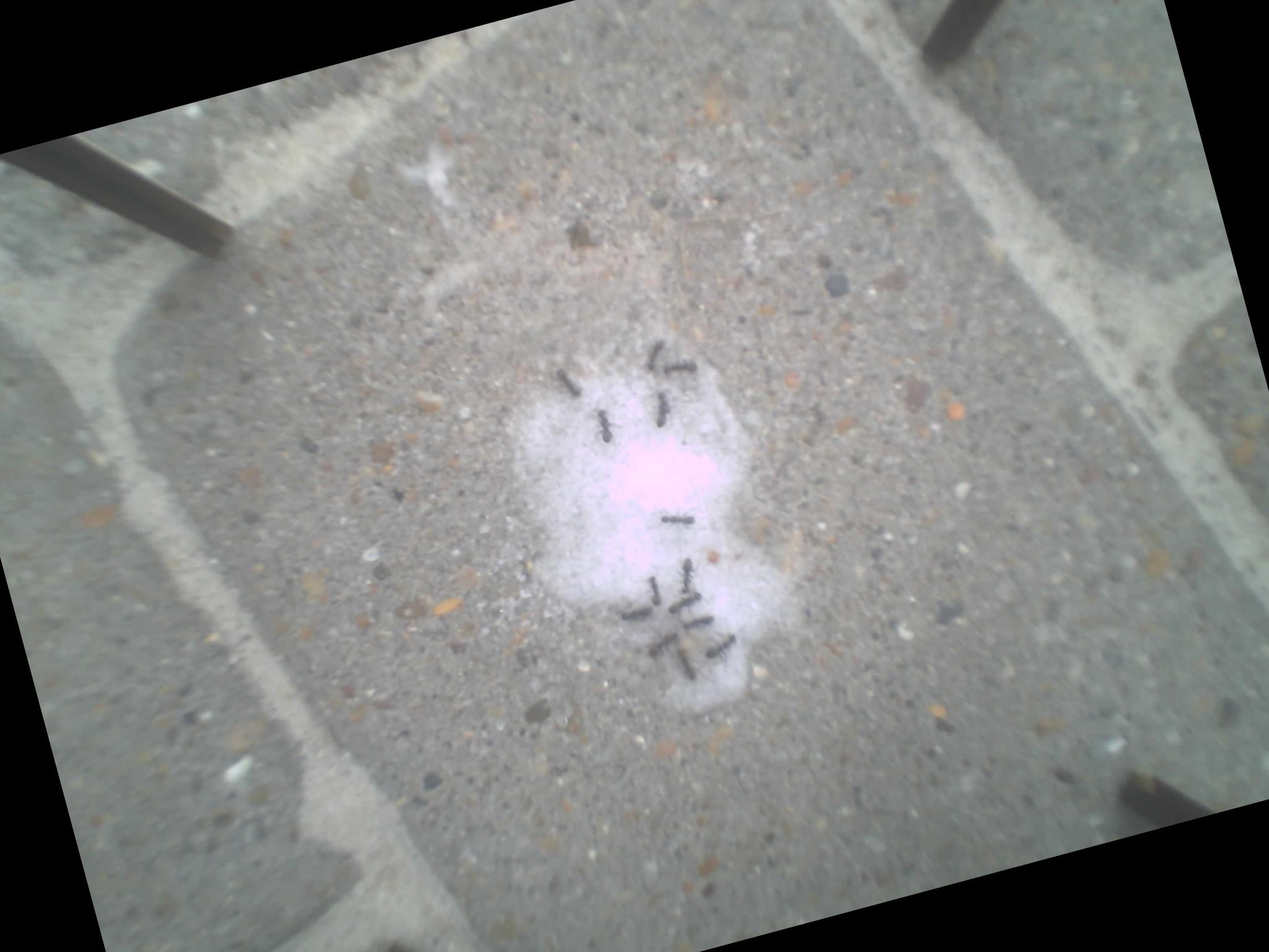Ant: (641, 339, 670, 372), (555, 365, 582, 400), (673, 641, 696, 682), (648, 391, 673, 428), (665, 592, 703, 616), (703, 635, 739, 660), (645, 634, 681, 659), (673, 559, 698, 594), (660, 508, 696, 531), (680, 610, 715, 632), (618, 605, 654, 626), (662, 358, 697, 379), (595, 408, 613, 443), (645, 575, 662, 607)
